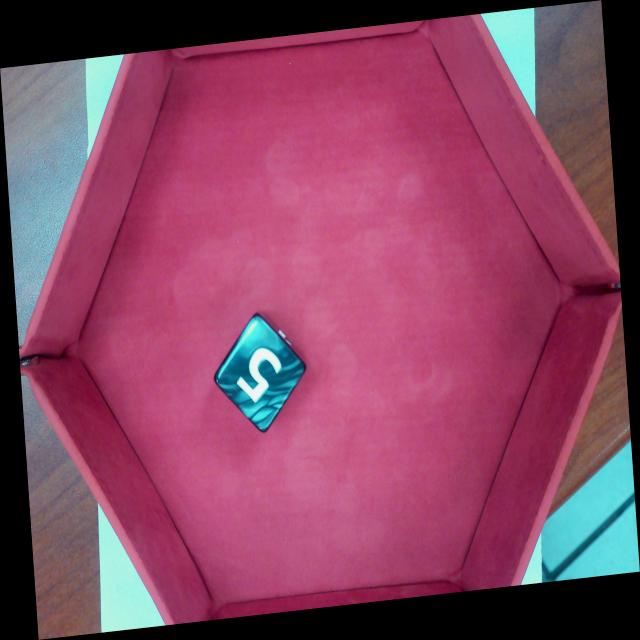dice: (213, 316, 308, 435)
